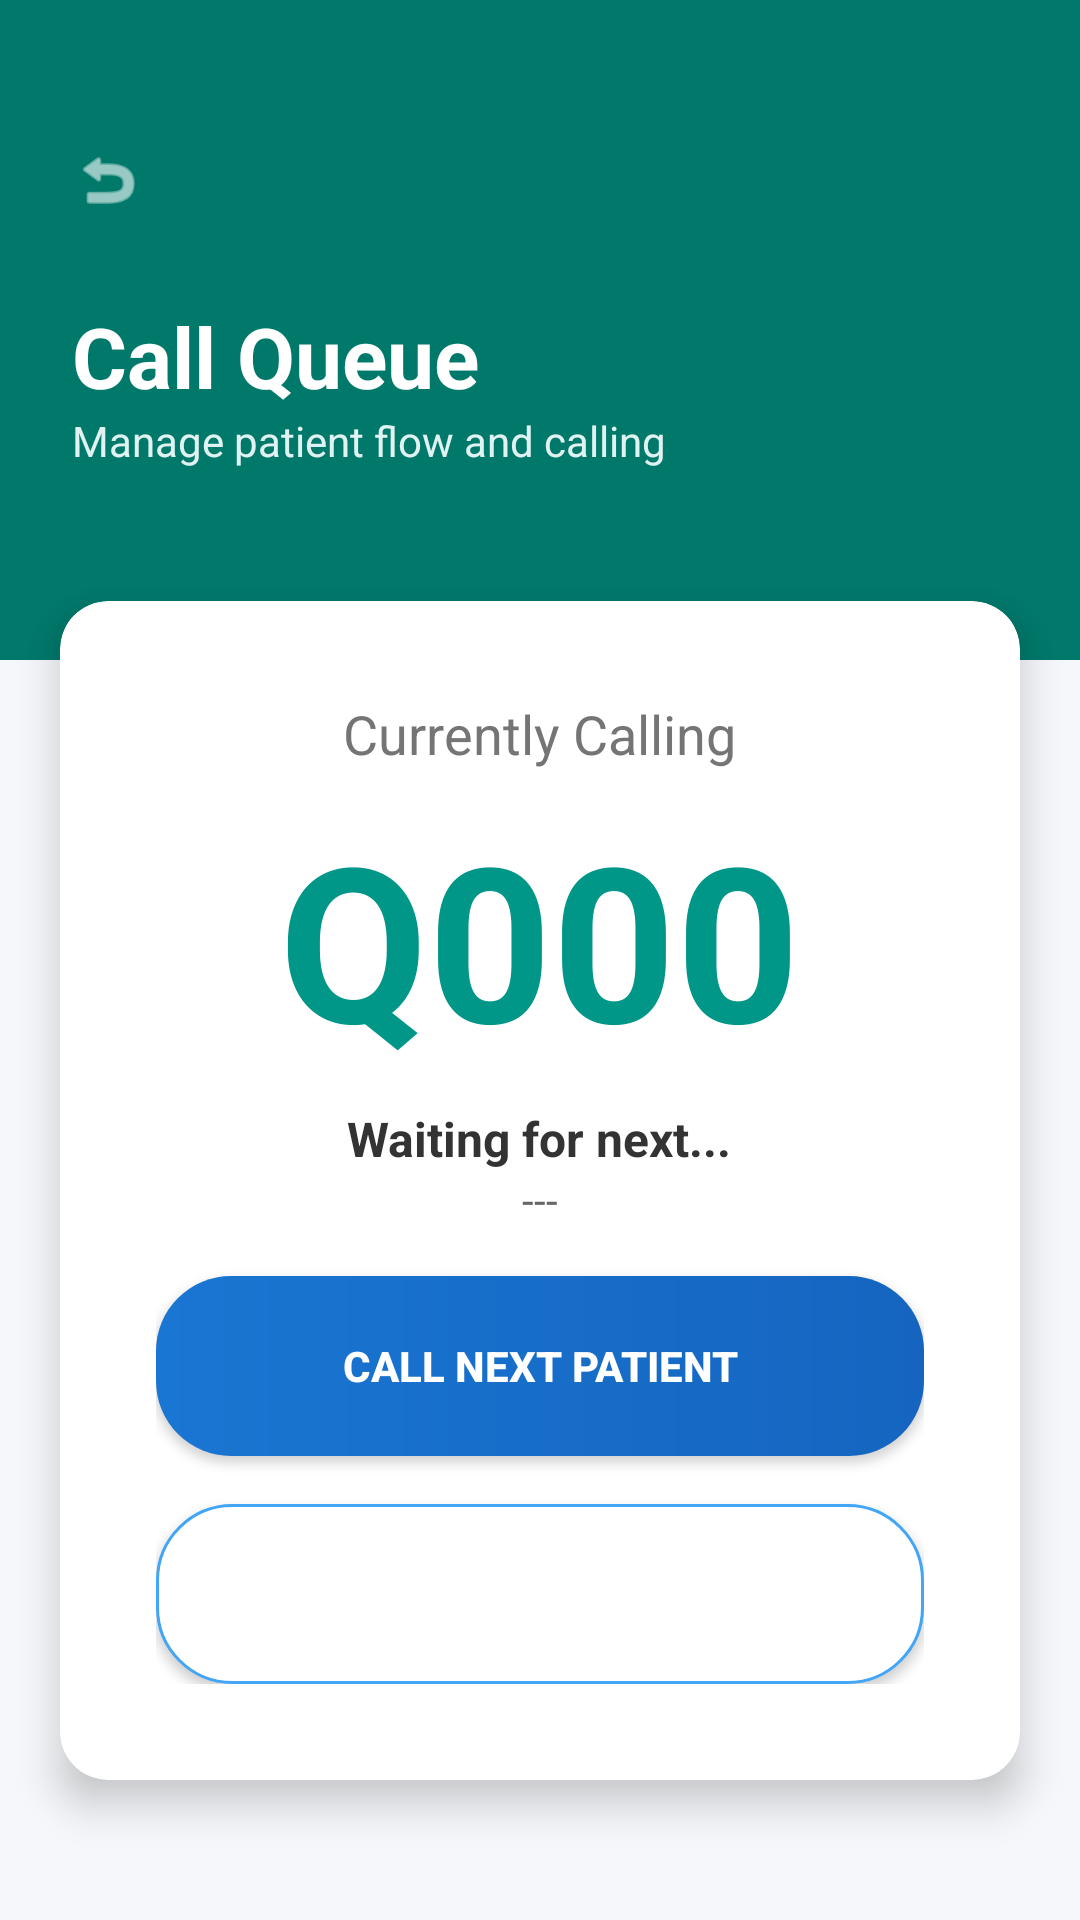

Icons on this 1080w x 1920h Android screen, each with its box as (x1, y1, x2, y2):
revert: (83, 157, 135, 204)
